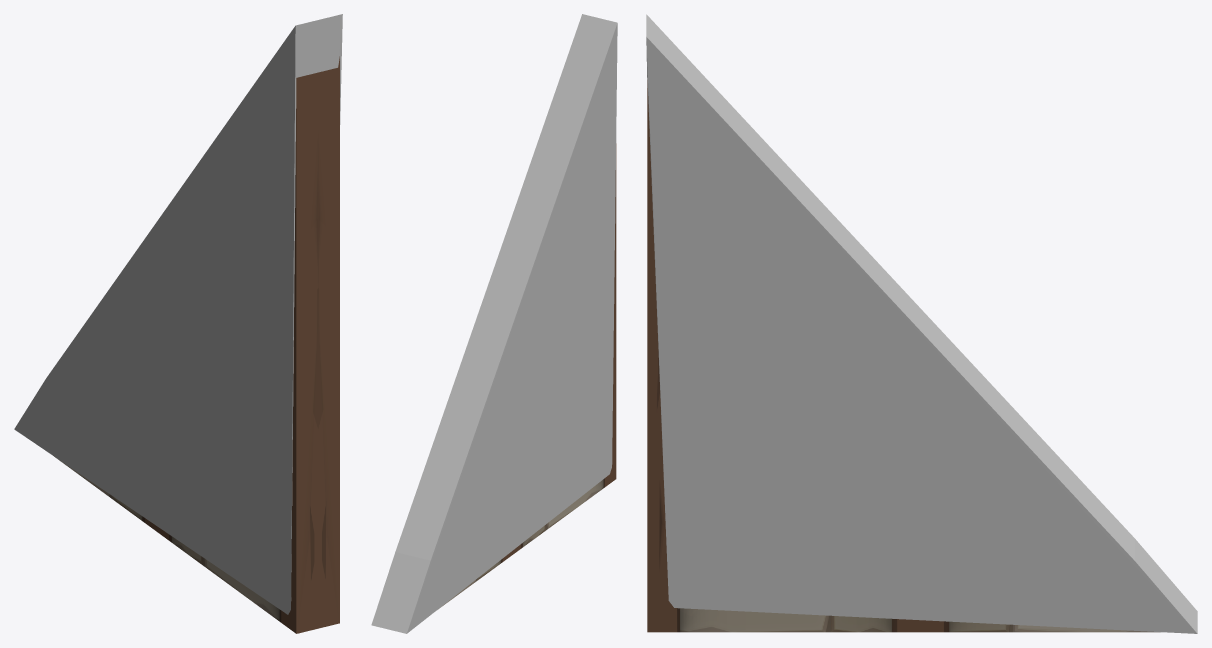
Rendered from SM_Bld_Wall_End_Straight_01.fbx.
The picture shows the model from 3 angles, left to right: view 1: azimuth 30°, elevation 25°; view 2: azimuth 150°, elevation 25°; view 3: azimuth 270°, elevation 25°; orthographic projection. The views are drawn at different scales.
Visible parts, largest first — view 1: SM_Bld_Wall_End_Straight_01_ConvexHulls, SM_Bld_Wall_End_Straight_01; view 2: SM_Bld_Wall_End_Straight_01_ConvexHulls, SM_Bld_Wall_End_Straight_01; view 3: SM_Bld_Wall_End_Straight_01_ConvexHulls, SM_Bld_Wall_End_Straight_01.
Part boxes in pixels (bbox=[...]): SM_Bld_Wall_End_Straight_01_ConvexHulls: bbox=[14, 14, 342, 614]; SM_Bld_Wall_End_Straight_01: bbox=[54, 56, 339, 633]; SM_Bld_Wall_End_Straight_01_ConvexHulls: bbox=[371, 14, 617, 633]; SM_Bld_Wall_End_Straight_01: bbox=[438, 143, 616, 609]; SM_Bld_Wall_End_Straight_01_ConvexHulls: bbox=[646, 14, 1197, 633]; SM_Bld_Wall_End_Straight_01: bbox=[647, 80, 1160, 632].
Size of the model in its own units: 24.47 by 252 by 301.
Materials: 2 (1 with a texture image).
